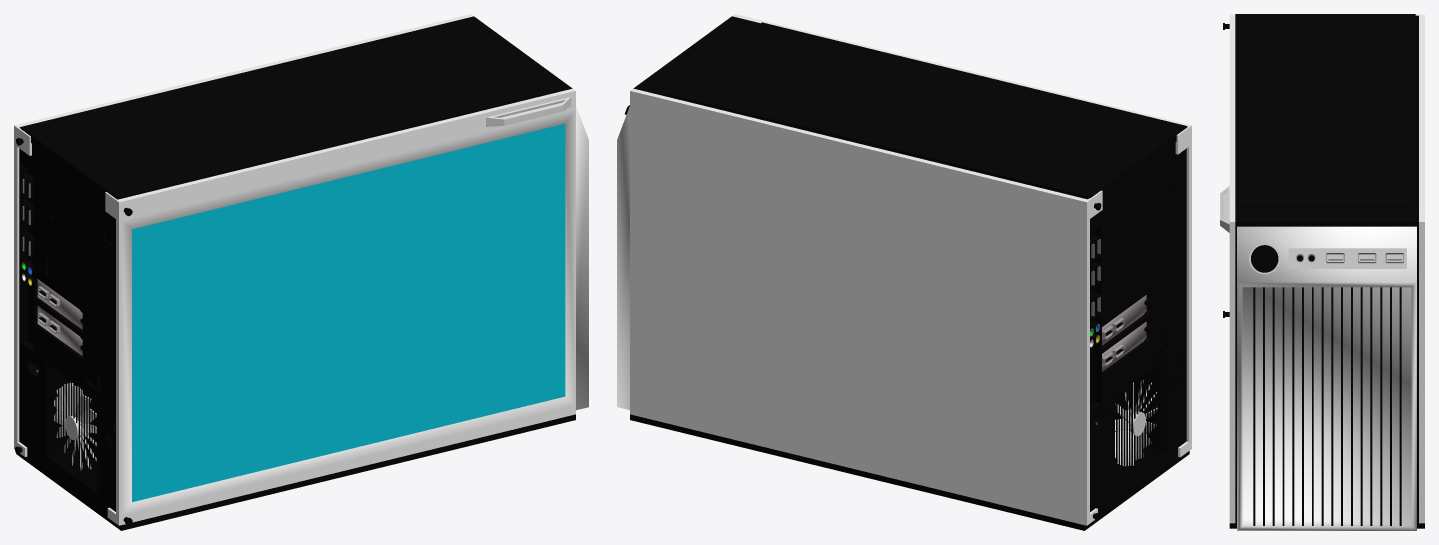
File: case4.fbx
3 renders of one model, left to right at view 1: azimuth 30°, elevation 25°; view 2: azimuth 150°, elevation 25°; view 3: azimuth 270°, elevation 25°, orthographic. The views are drawn at different scales.
Parts seen in each view (by area): view 1: right, Plane, back, power, left, Plane.001, powerfan; view 2: left, Plane, back, power, Plane.001, right, powerfan; view 3: Plane.001, Plane, Plane.002, right, left, USB, powerbutton, back.
Part boxes in pixels (bbox=[...]): right: bbox=[105, 88, 575, 525]; Plane: bbox=[16, 16, 575, 530]; back: bbox=[19, 168, 115, 507]; power: bbox=[21, 341, 99, 495]; left: bbox=[14, 14, 473, 456]; Plane.001: bbox=[576, 106, 588, 410]; powerfan: bbox=[54, 382, 96, 470]; left: bbox=[630, 88, 1102, 525]; Plane: bbox=[630, 16, 1189, 530]; back: bbox=[1090, 163, 1185, 451]; power: bbox=[1090, 356, 1166, 507]; Plane.001: bbox=[617, 106, 629, 409]; right: bbox=[732, 14, 1191, 457]; powerfan: bbox=[1115, 380, 1157, 466]; Plane.001: bbox=[1237, 226, 1416, 530]; Plane: bbox=[1229, 14, 1424, 528]; Plane.002: bbox=[1253, 287, 1401, 525]; right: bbox=[1220, 14, 1235, 523]; left: bbox=[1415, 14, 1424, 523]; USB: bbox=[1249, 243, 1406, 274]; powerbutton: bbox=[1251, 245, 1278, 272]; back: bbox=[1415, 51, 1416, 207].
Bounding box in the file's own units: 26.35 × 17.37 × 10.48.
